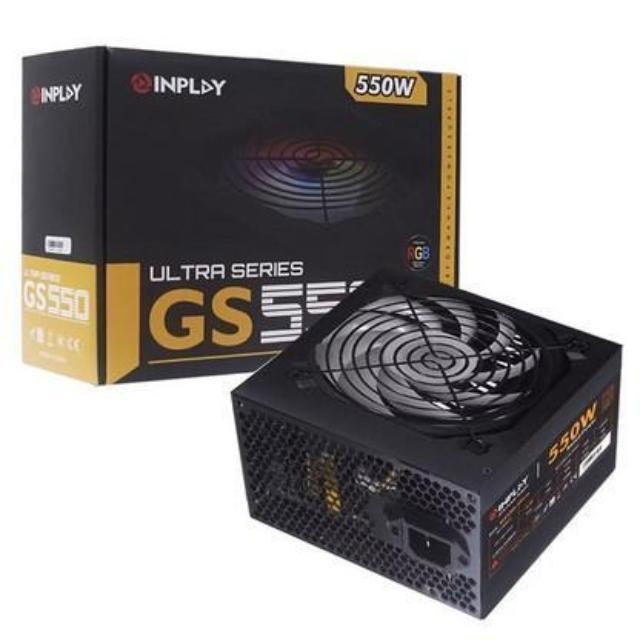PSU: (227, 251, 621, 631)
